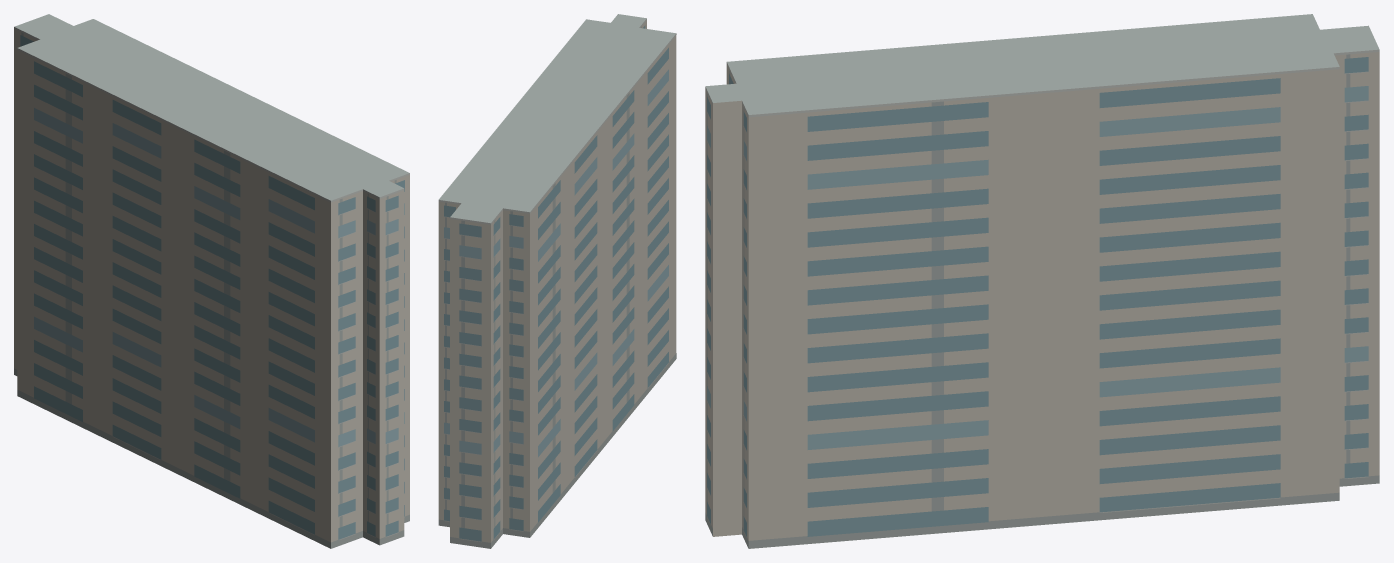
The model's file is residential-0605f60f-826c-47d2-8e11-4f2662091372.glb.
3 views of the same model, side by side, from view 1: azimuth 30°, elevation 25°; view 2: azimuth 150°, elevation 25°; view 3: azimuth 270°, elevation 25° (orthographic). The views are drawn at different scales.
Visible parts, largest first — view 1: residential-0605f60f-826c-47d2-8e11-4f2662091372.tmp; view 2: residential-0605f60f-826c-47d2-8e11-4f2662091372.tmp; view 3: residential-0605f60f-826c-47d2-8e11-4f2662091372.tmp.
Boxes of the visible parts, x1,y1,x2,y2 form: residential-0605f60f-826c-47d2-8e11-4f2662091372.tmp: [14, 14, 409, 548]; residential-0605f60f-826c-47d2-8e11-4f2662091372.tmp: [438, 14, 676, 548]; residential-0605f60f-826c-47d2-8e11-4f2662091372.tmp: [705, 14, 1379, 548].
Size of the model in its own units: 22.87 by 45.75 by 64.45.
